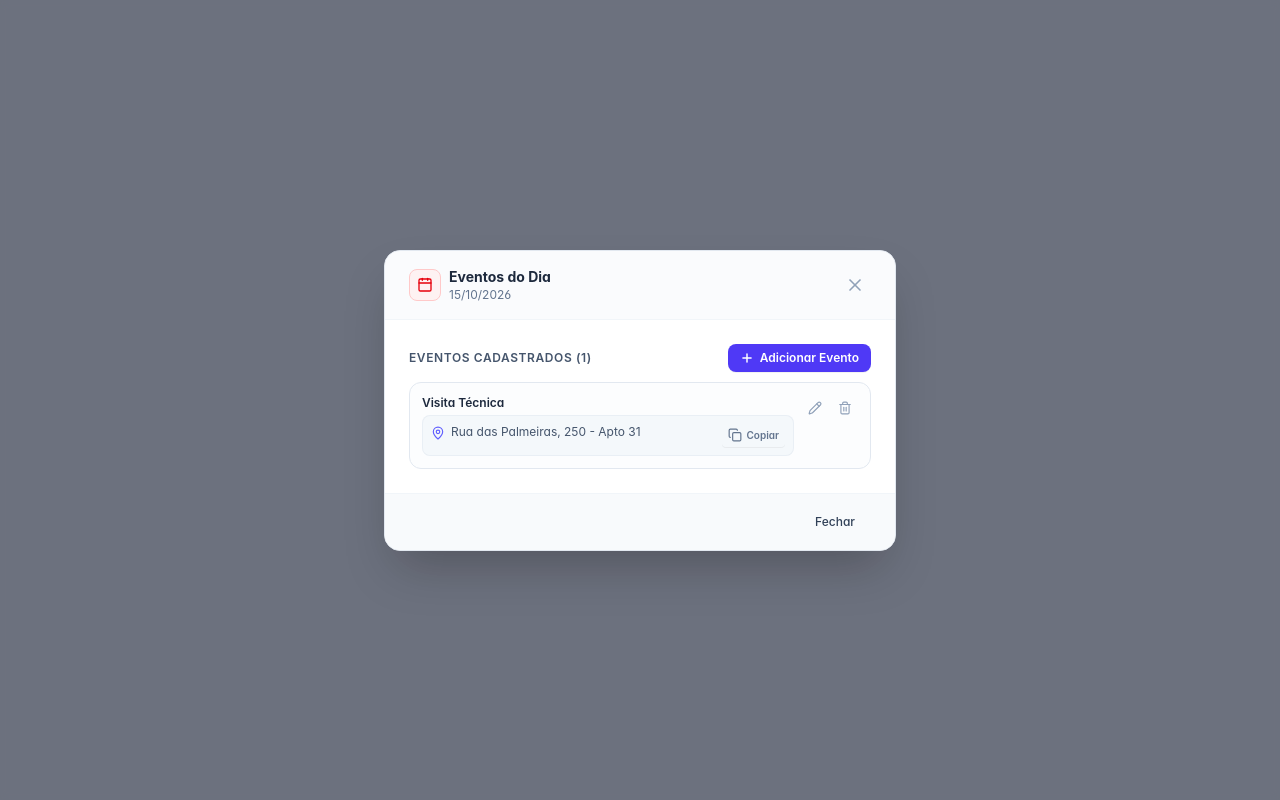
Test: DayEventsModal › copies the address of an event from the list
Click the button with aria-label "Copiar endereço do evento": click(754, 435) [722, 424, 785, 446]
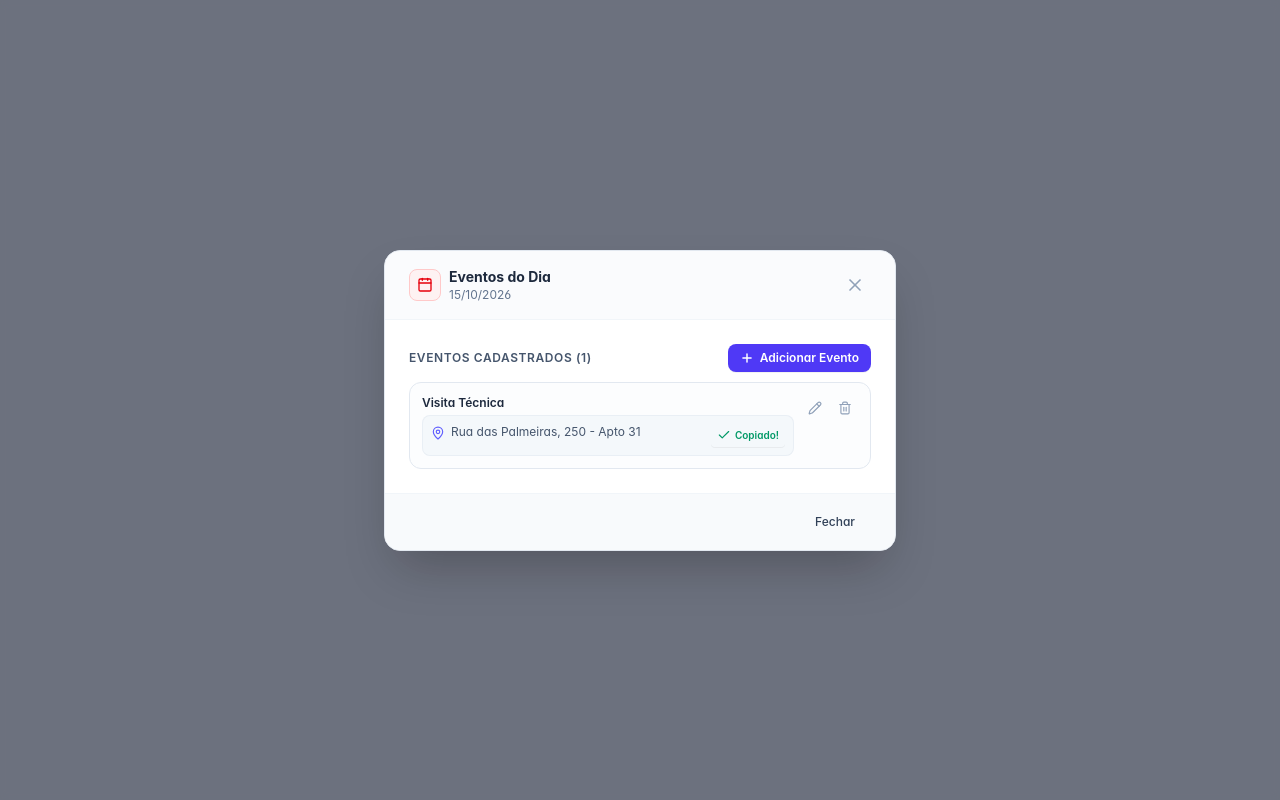
Result: the text "Copiado!" is shown at [735, 428, 779, 442]
